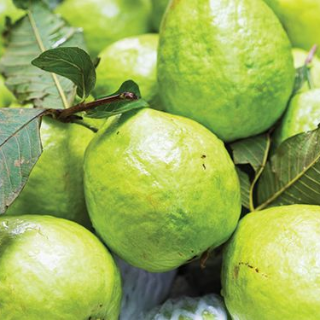oi: (82, 108, 239, 270)
